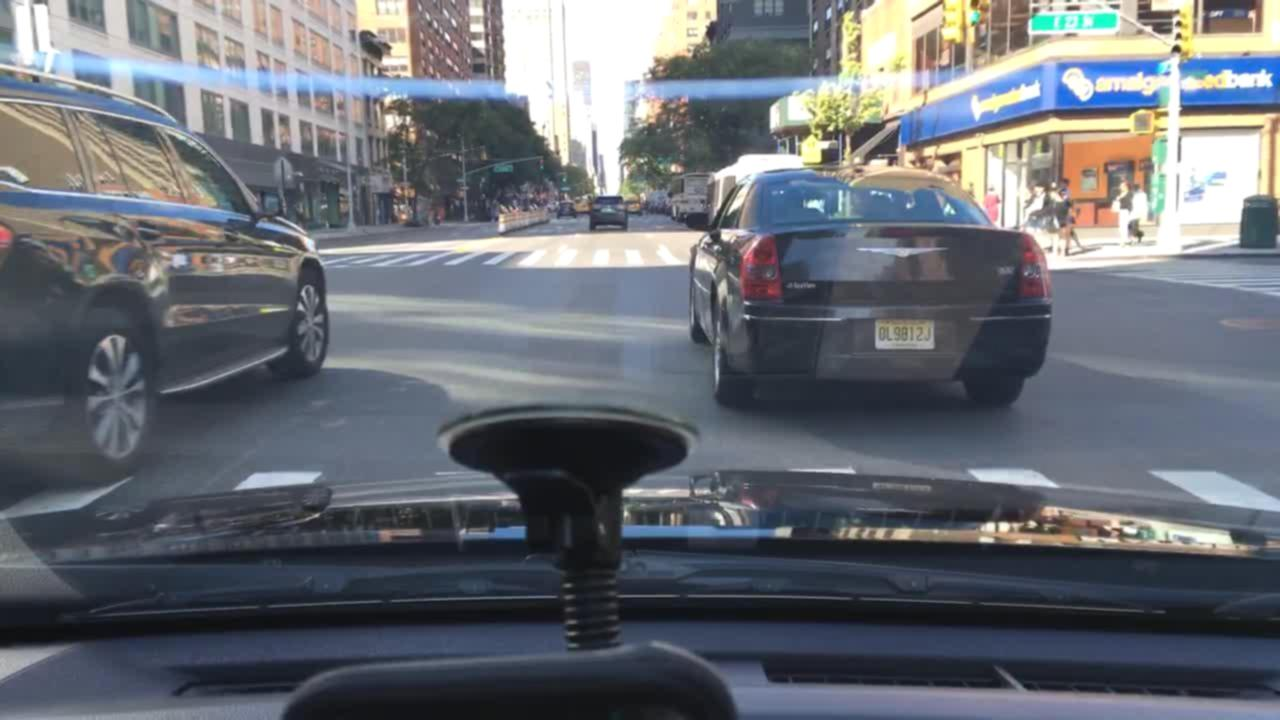Chrysler: (847, 239, 953, 265)
